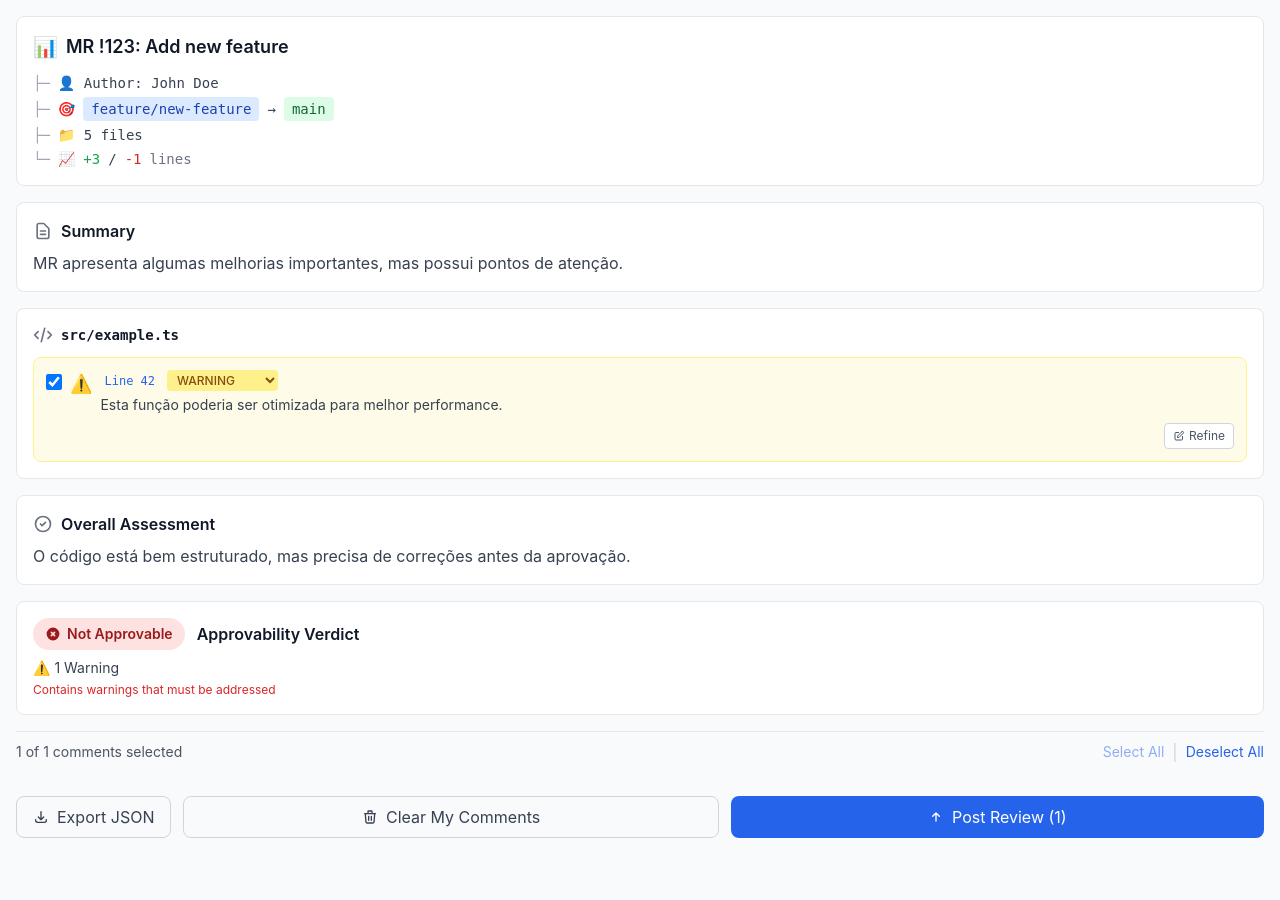
Test: ReviewDisplayView › Edge Cases › should handle refinement failure gracefully
The image size is (1280, 900).
Click the button "Refine" at [1199, 436], box [1164,423,1234,449]
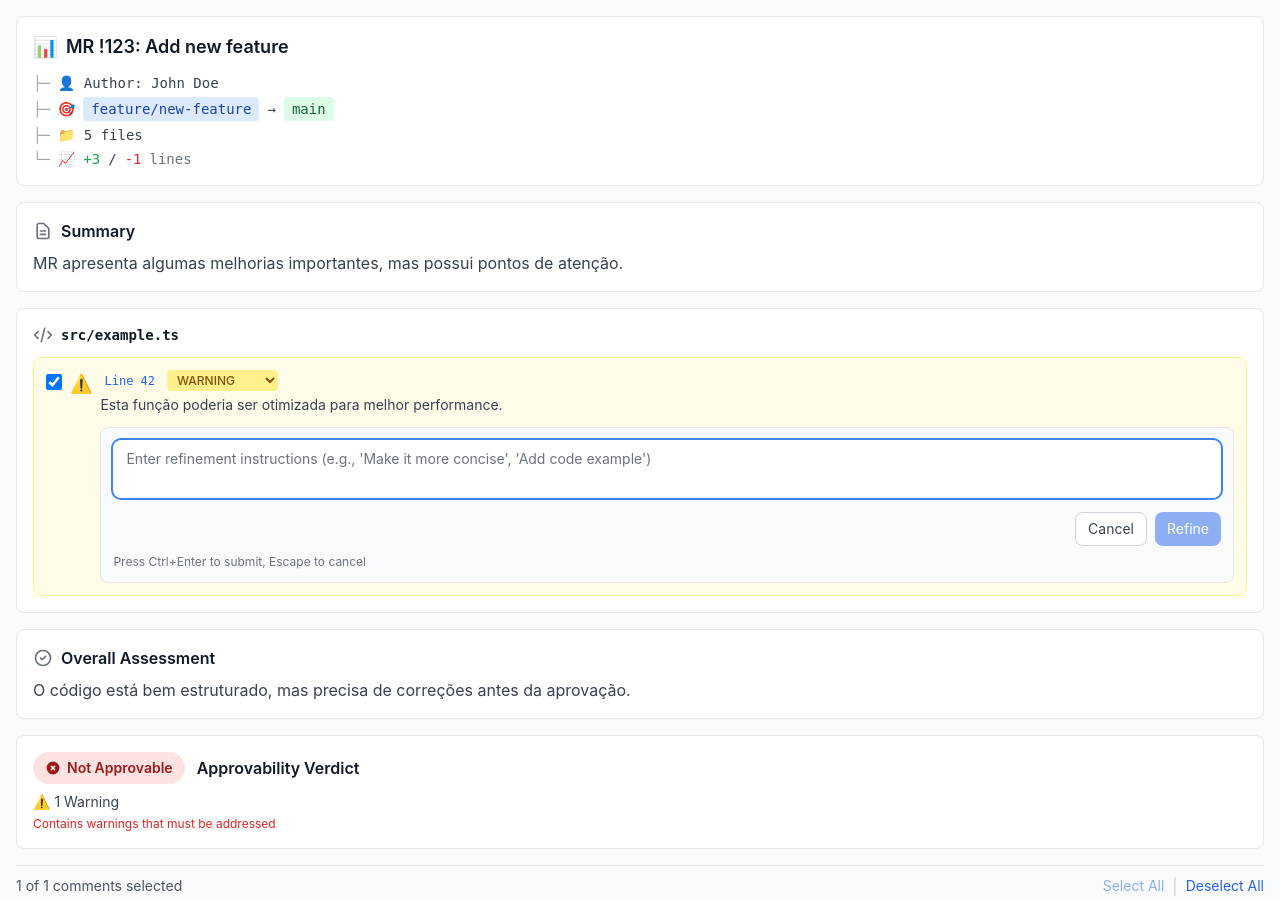
Type "Improve" into the text box at [667, 469], box [114,440,1221,498]
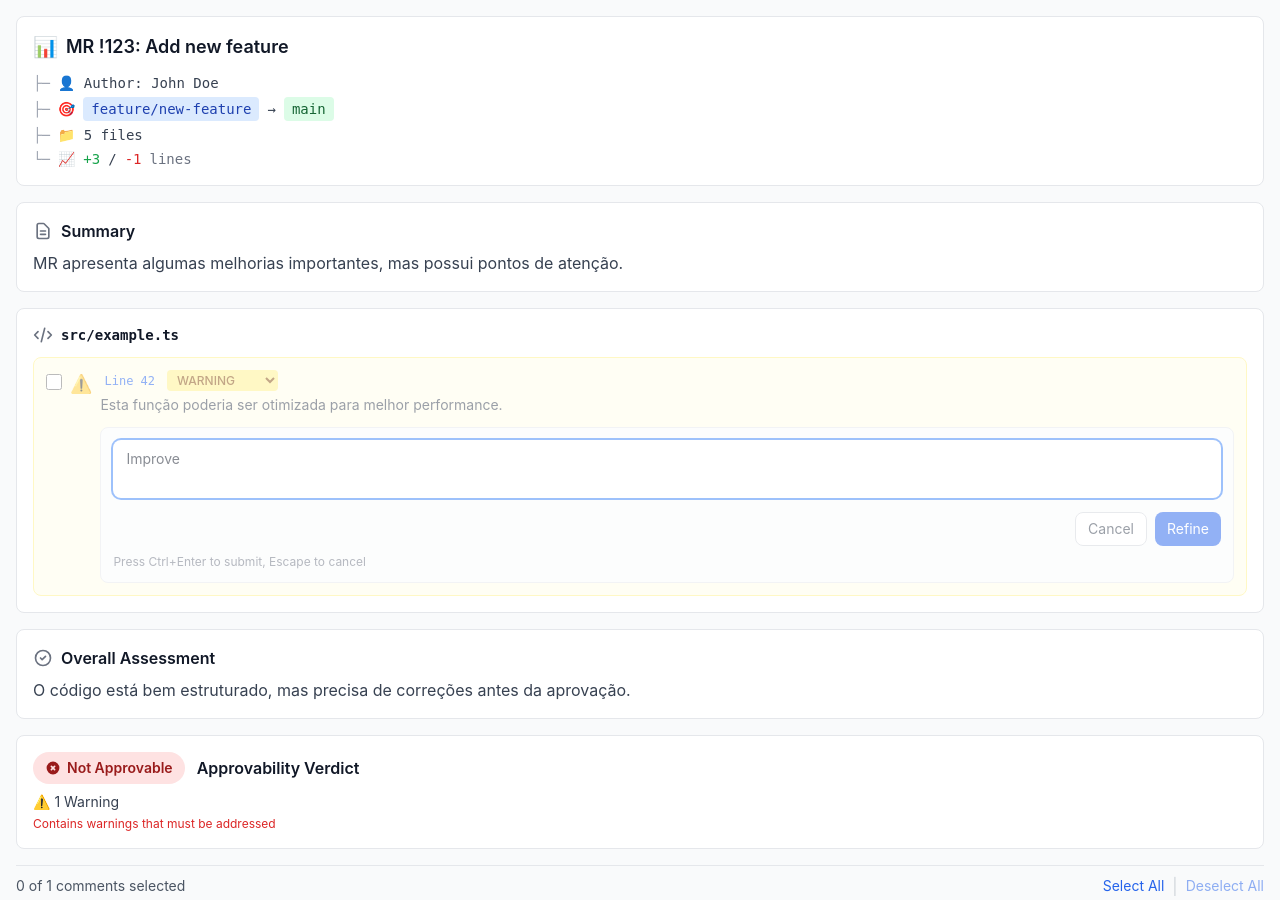
Click the button "Refine" at [1188, 529], box [1155,512,1221,546]
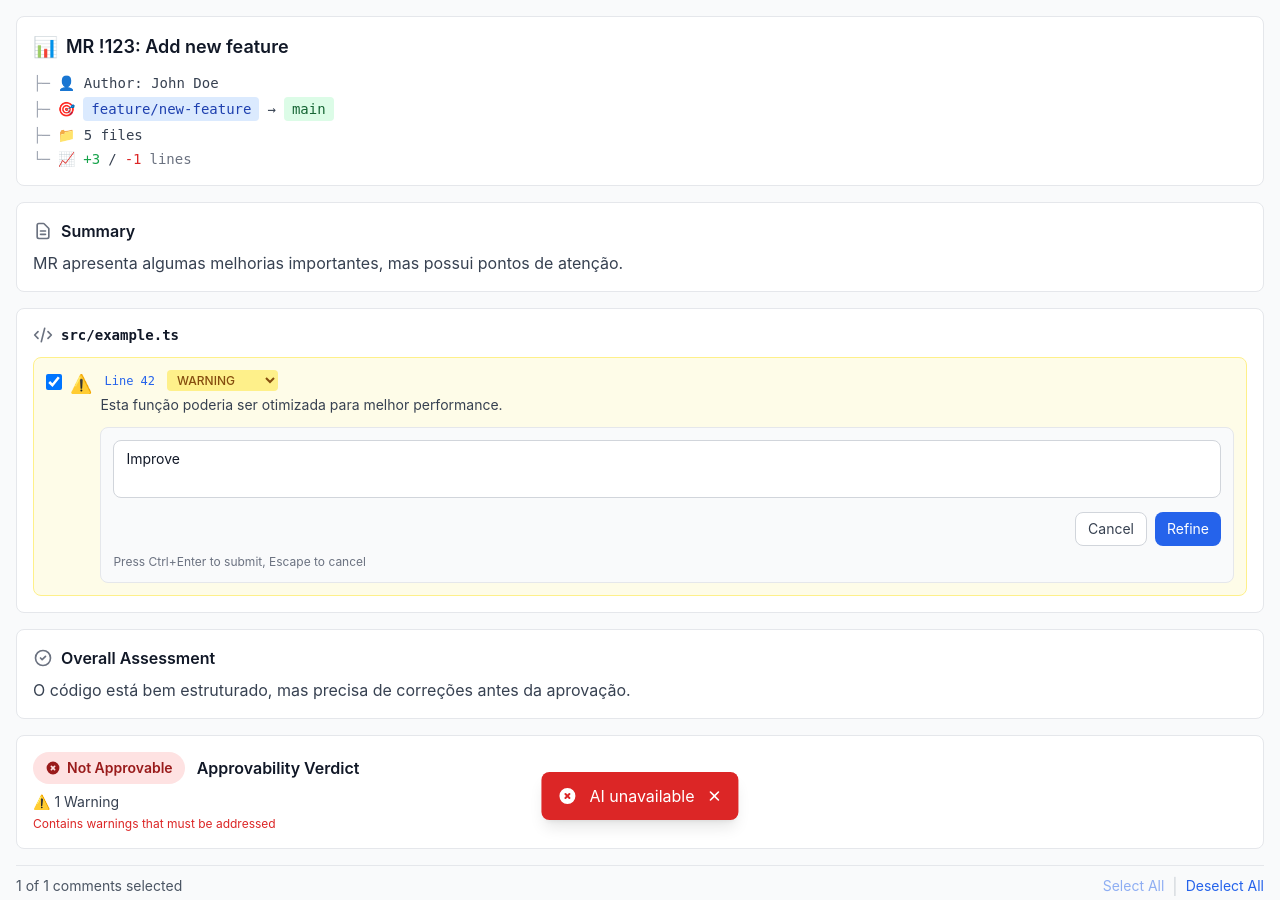
Now the text "AI unavailable" is shown, box [589,784,694,808]
